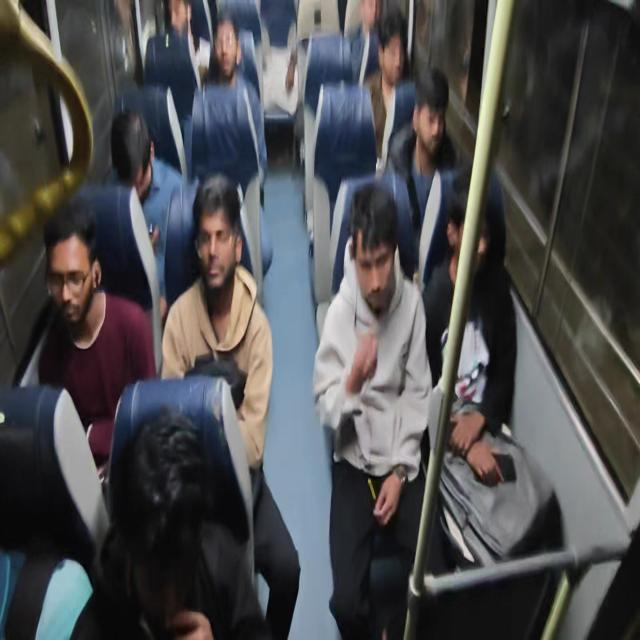person: (17, 2, 529, 637), (160, 173, 301, 638), (312, 182, 433, 638), (32, 199, 157, 479), (70, 405, 216, 639), (422, 166, 518, 487), (331, 9, 417, 295), (190, 14, 272, 276), (381, 66, 459, 283), (109, 107, 184, 313), (362, 8, 417, 179), (143, 0, 210, 129), (348, 0, 381, 86)
